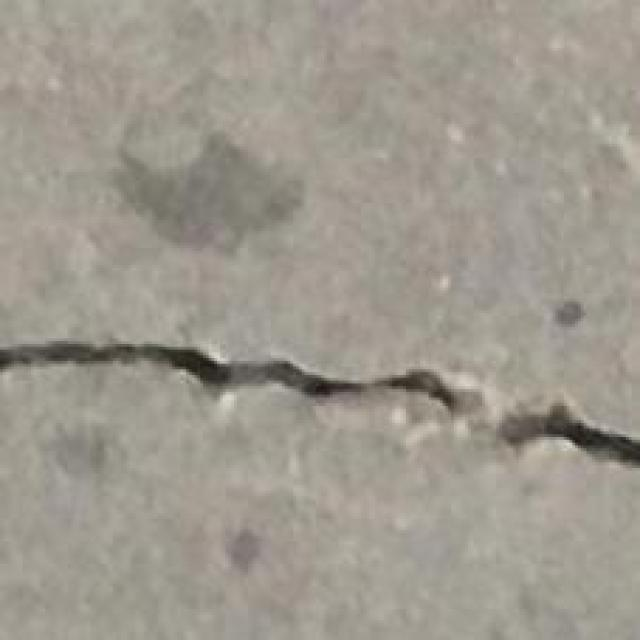Transverse: (1, 286, 640, 498)
